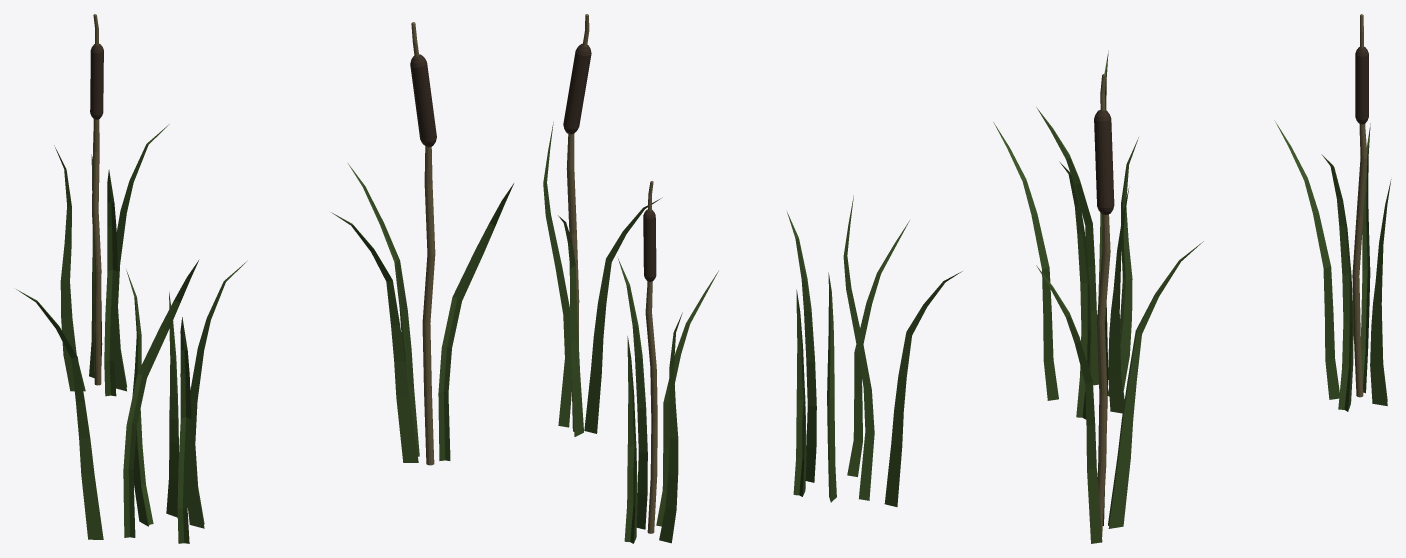
File: Siv.fbx
The picture shows the model from 3 angles, left to right: view 1: azimuth 30°, elevation 25°; view 2: azimuth 150°, elevation 25°; view 3: azimuth 270°, elevation 25°; orthographic projection. The views are drawn at different scales.
Parts seen in each view (by area): view 1: Siv2, Siv3, Siv1; view 2: Siv2, Siv1, Siv3; view 3: Siv1, Siv3, Siv2.
Part boxes in pixels (bbox=[...]): Siv2: bbox=[16, 259, 246, 543]; Siv3: bbox=[331, 22, 513, 465]; Siv1: bbox=[54, 14, 169, 396]; Siv2: bbox=[787, 195, 962, 506]; Siv1: bbox=[618, 181, 718, 543]; Siv3: bbox=[543, 14, 662, 436]; Siv1: bbox=[1274, 14, 1391, 411]; Siv3: bbox=[1036, 73, 1203, 543]; Siv2: bbox=[993, 50, 1138, 419].
Size of the model in its own units: 25.45 by 23.15 by 18.37.
